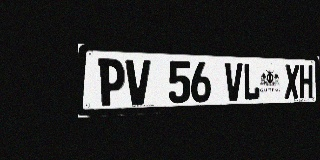5: (169, 61, 190, 104)
6: (191, 61, 211, 103)
H: (299, 65, 313, 98)
L: (243, 63, 260, 101)
P: (98, 58, 125, 106)
V: (126, 59, 150, 105), (225, 62, 242, 101)
X: (285, 64, 299, 99)
